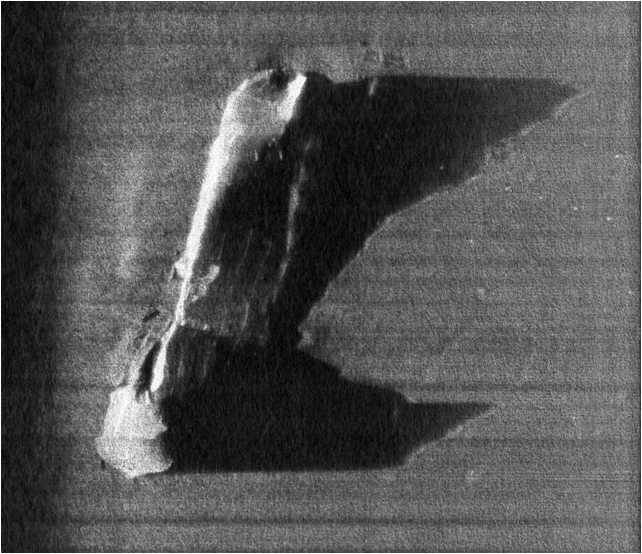ship: (93, 66, 314, 479)
